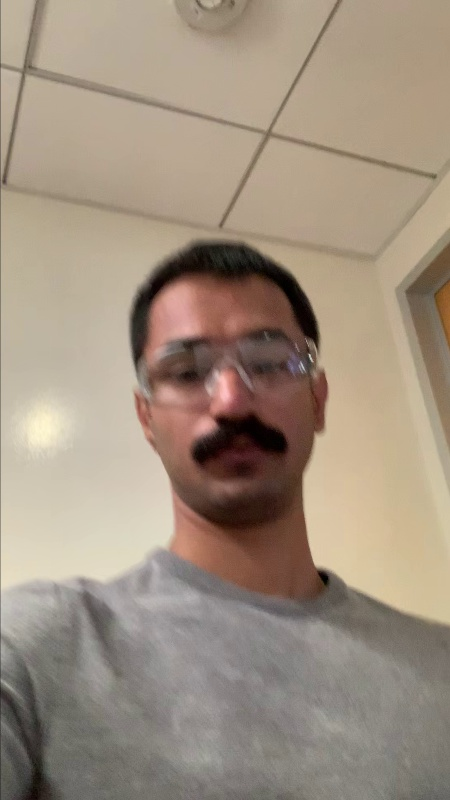glasses: (135, 329, 309, 412)
